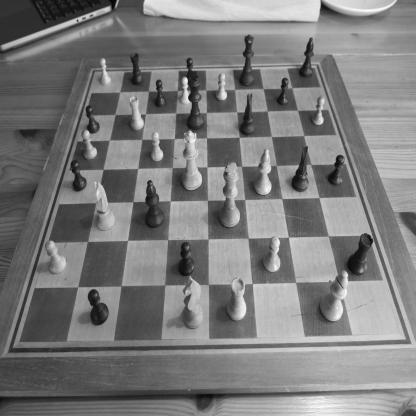black-bishop: (145, 179, 165, 229), (299, 36, 314, 78)
black-king: (186, 70, 204, 130)
black-knight: (291, 144, 309, 192), (240, 93, 255, 136)
black-pawn: (88, 289, 110, 326), (178, 242, 195, 276), (328, 154, 345, 186), (70, 160, 87, 192), (85, 104, 100, 134), (154, 79, 167, 108), (277, 77, 289, 106), (186, 57, 193, 83)
black-queen: (238, 34, 254, 86)
black-rook: (347, 232, 374, 276), (130, 52, 144, 86)
white-bishop: (319, 270, 348, 322), (254, 148, 272, 196)
white-king: (219, 162, 240, 228)
white-knight: (182, 276, 204, 330), (94, 181, 116, 231)
white-pawn: (44, 240, 67, 275), (263, 236, 281, 273), (81, 130, 98, 160), (311, 96, 325, 126), (151, 131, 164, 162), (99, 58, 111, 86), (216, 73, 228, 101), (180, 76, 191, 104)
white-queen: (181, 130, 203, 191)
white-rook: (226, 276, 247, 322), (130, 95, 144, 131)
